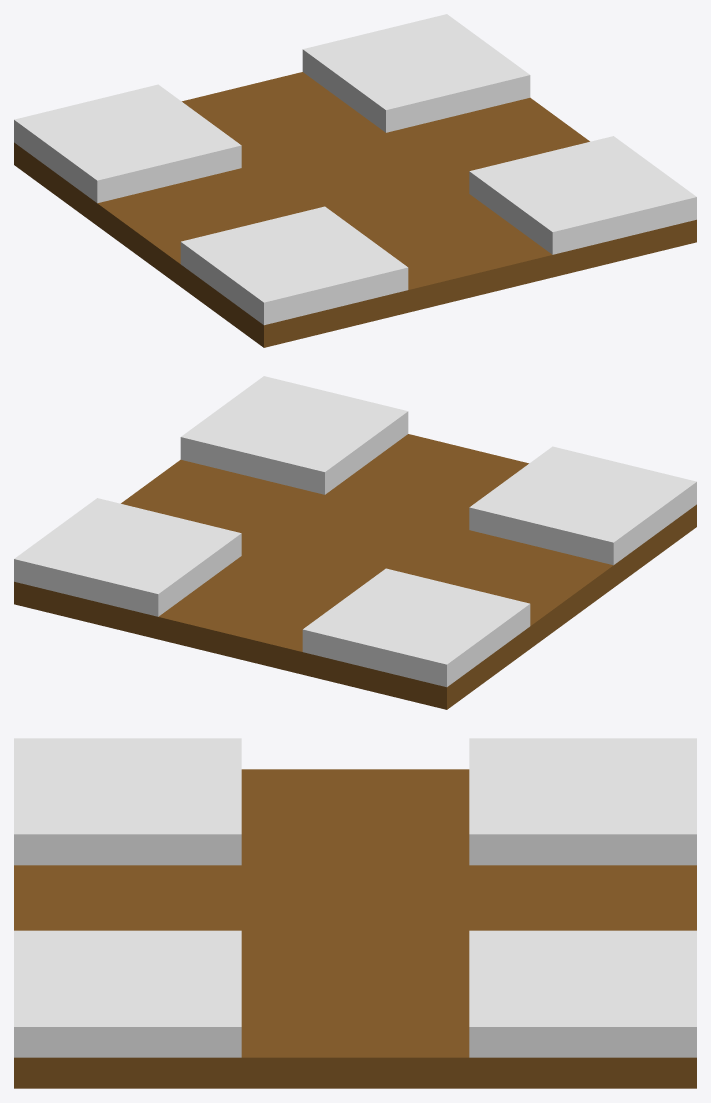
File: WinterCrossing_01.fbx
The picture shows the model from 3 angles, top to bottom: view 1: azimuth 30°, elevation 25°; view 2: azimuth 150°, elevation 25°; view 3: azimuth 270°, elevation 25°; orthographic projection. The views are drawn at different scales.
Parts seen in each view (by area): view 1: WinterCrossing_01; view 2: WinterCrossing_01; view 3: WinterCrossing_01.
Part boxes in pixels (box(x1,y1,x2,y2)): WinterCrossing_01: box(14, 14, 696, 347); WinterCrossing_01: box(14, 376, 696, 709); WinterCrossing_01: box(14, 738, 696, 1088).
Bounding box in the file's own units: 1 × 0.1 × 1.
